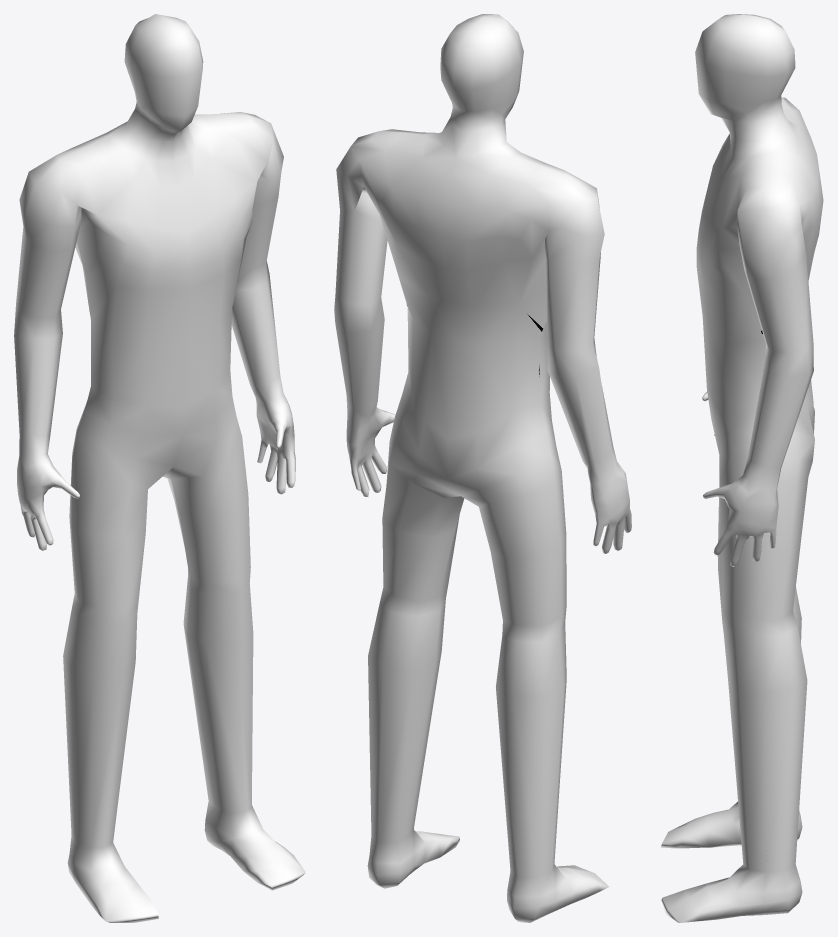
File: Maniqui_posed_no_rig2.fbx
3 renders of one model, left to right at view 1: azimuth 30°, elevation 25°; view 2: azimuth 150°, elevation 25°; view 3: azimuth 270°, elevation 25°, orthographic.
Parts seen in each view (by area): view 1: LowPoly_mannaquin:Mesh; view 2: LowPoly_mannaquin:Mesh; view 3: LowPoly_mannaquin:Mesh.
Boxes of the visible parts, x1,y1,x2,y2 form: LowPoly_mannaquin:Mesh: [14, 14, 305, 922]; LowPoly_mannaquin:Mesh: [334, 14, 631, 922]; LowPoly_mannaquin:Mesh: [660, 14, 823, 922].
Bounding box in the file's own units: 56.85 × 173 × 29.75.
